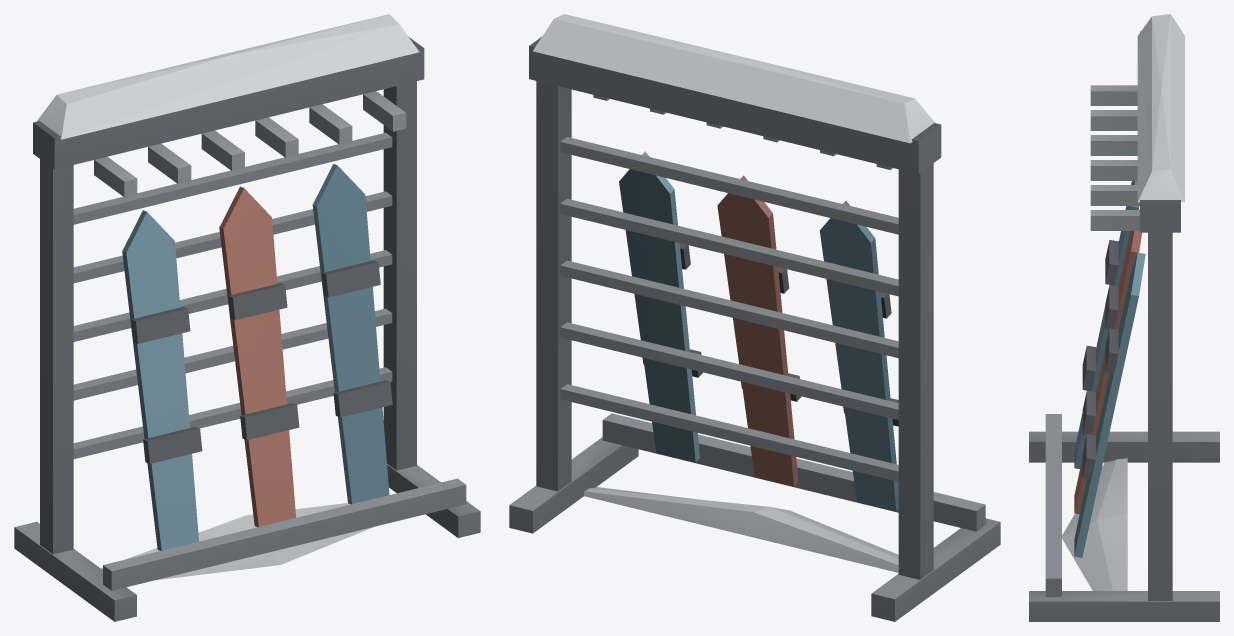
The model's file is boards.lod1.glb.
The picture shows the model from 3 angles, left to right: view 1: azimuth 30°, elevation 25°; view 2: azimuth 150°, elevation 25°; view 3: azimuth 270°, elevation 25°; orthographic projection. The views are drawn at different scales.
Bounding box in the file's own units: 1.98 × 2.41 × 0.93.
